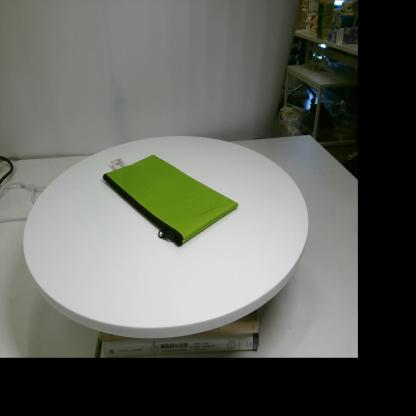Stationery: (102, 154, 238, 246)
